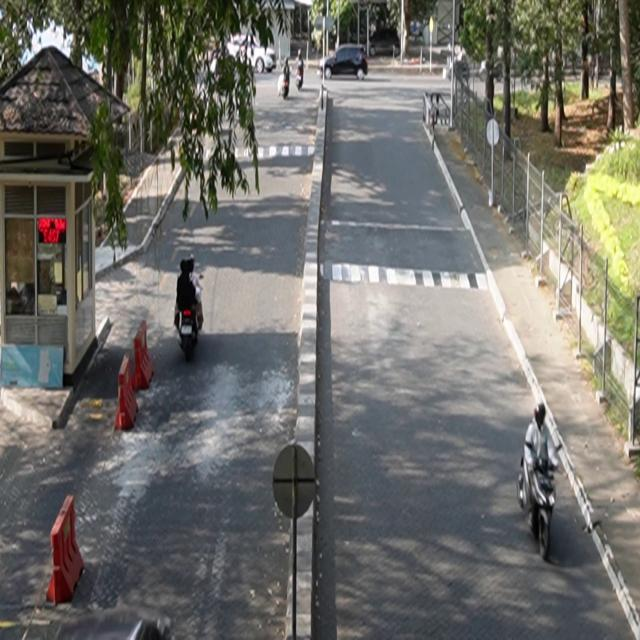car: (319, 45, 369, 81)
